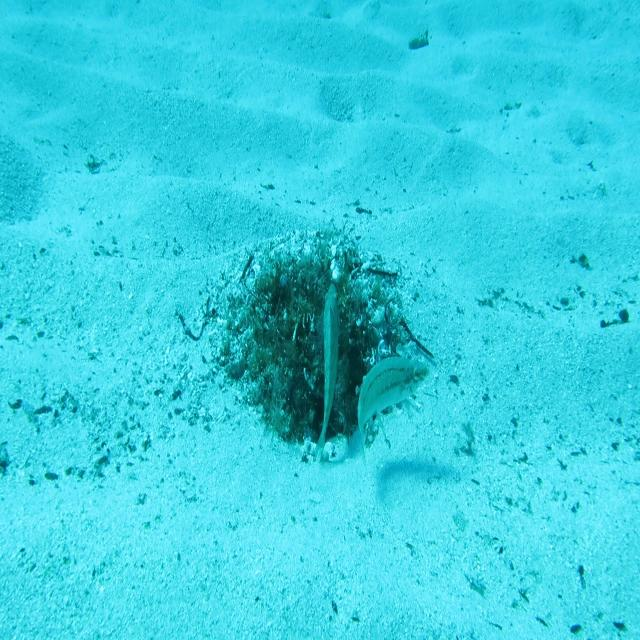FAN: (312, 282, 344, 468)
core_nest: (297, 274, 351, 317), (282, 281, 338, 318)
female: (354, 350, 431, 477)
nest: (206, 216, 430, 466)
vegetation: (407, 29, 429, 55)
